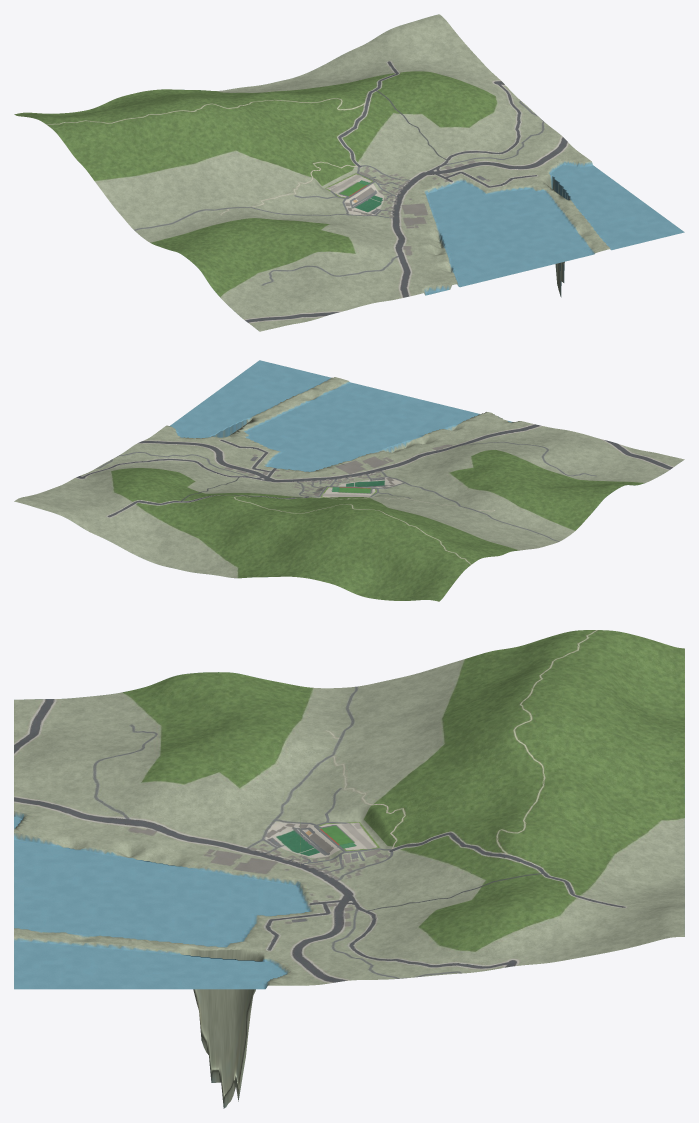
3 renders of one model, top to bottom at view 1: azimuth 30°, elevation 25°; view 2: azimuth 150°, elevation 25°; view 3: azimuth 270°, elevation 25°, orthographic. The views are drawn at different scales.
Parts seen in each view (by area): view 1: ground-area, ground-school; view 2: ground-area, ground-school; view 3: ground-area, ground-school.
Part boxes in pixels (box(x1,y1,x2,y2)): ground-area: box(14, 14, 684, 331); ground-school: box(301, 163, 399, 207); ground-area: box(14, 360, 684, 601); ground-school: box(300, 478, 398, 499); ground-area: box(14, 630, 684, 1108); ground-school: box(300, 797, 396, 865).
Bounding box in the file's own units: 1088 × 419 × 1088.
Materials: 2 (2 with a texture image).
